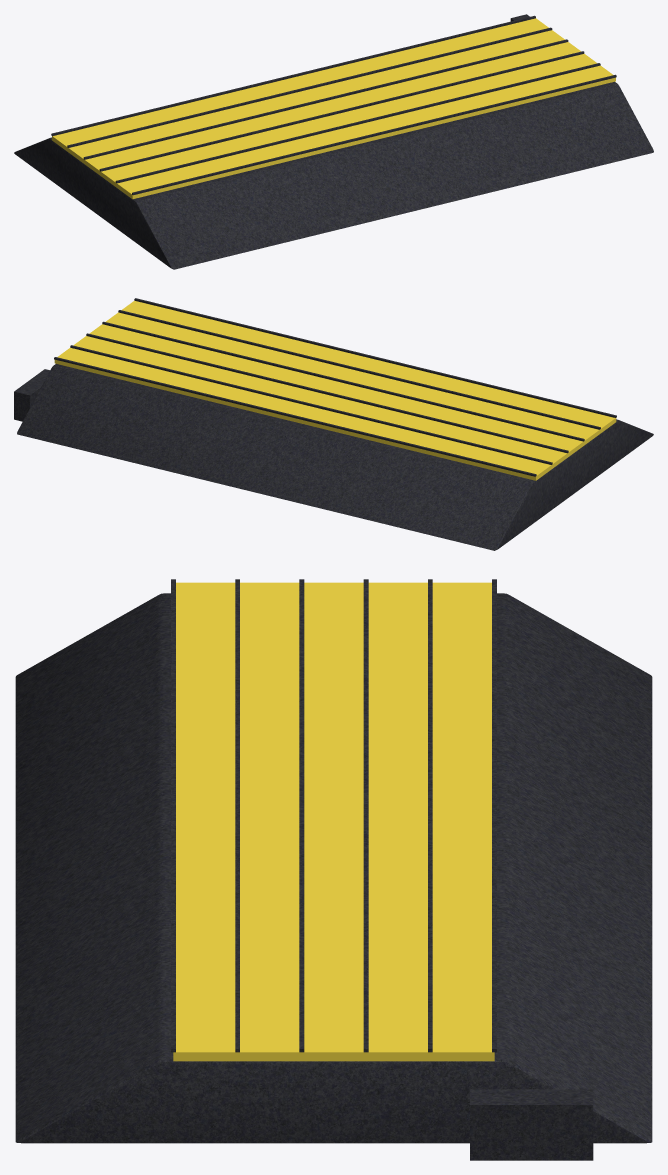
File: cable_ramp.gltf
3 views of the same model, one above another, from view 1: azimuth 30°, elevation 25°; view 2: azimuth 150°, elevation 25°; view 3: azimuth 270°, elevation 25° (orthographic). The views are drawn at different scales.
Visible parts, largest first — view 1: cable_ramp; view 2: cable_ramp; view 3: cable_ramp.
Part boxes in pixels (bbox=[...]): cable_ramp: bbox=[14, 14, 653, 269]; cable_ramp: bbox=[14, 298, 653, 550]; cable_ramp: bbox=[15, 579, 652, 1160].
Bounding box in the file's own units: 0.93 × 0.086 × 0.5157.
2 materials, 1 textured.
